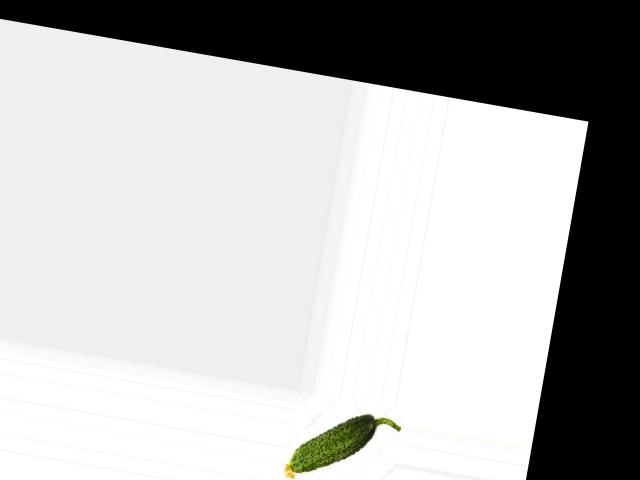cucumber: (282, 401, 401, 480)
